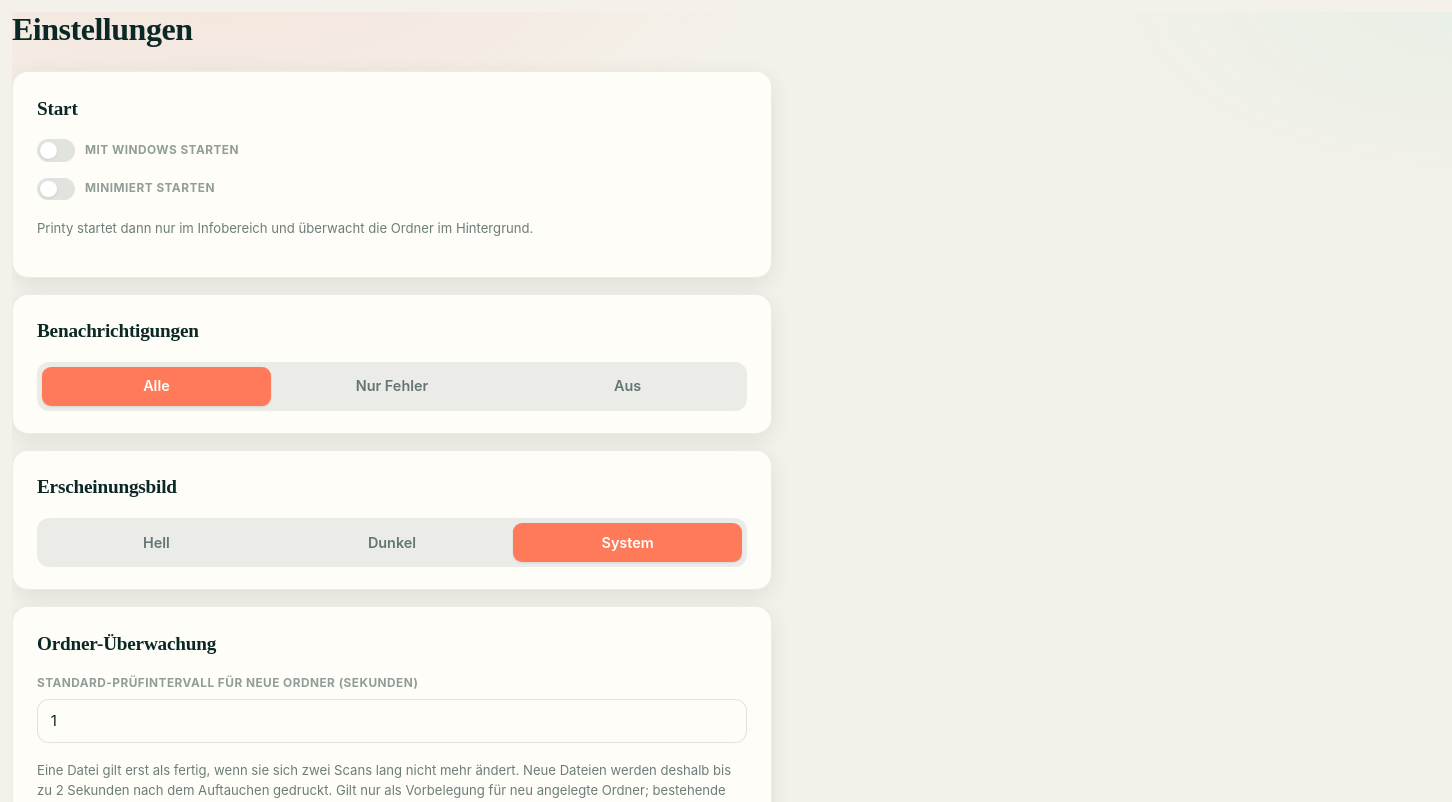
Test: Settings › falls back to off and says so when permission is refused
Click the button "Alle": x=156, y=386 [42,367,271,406]
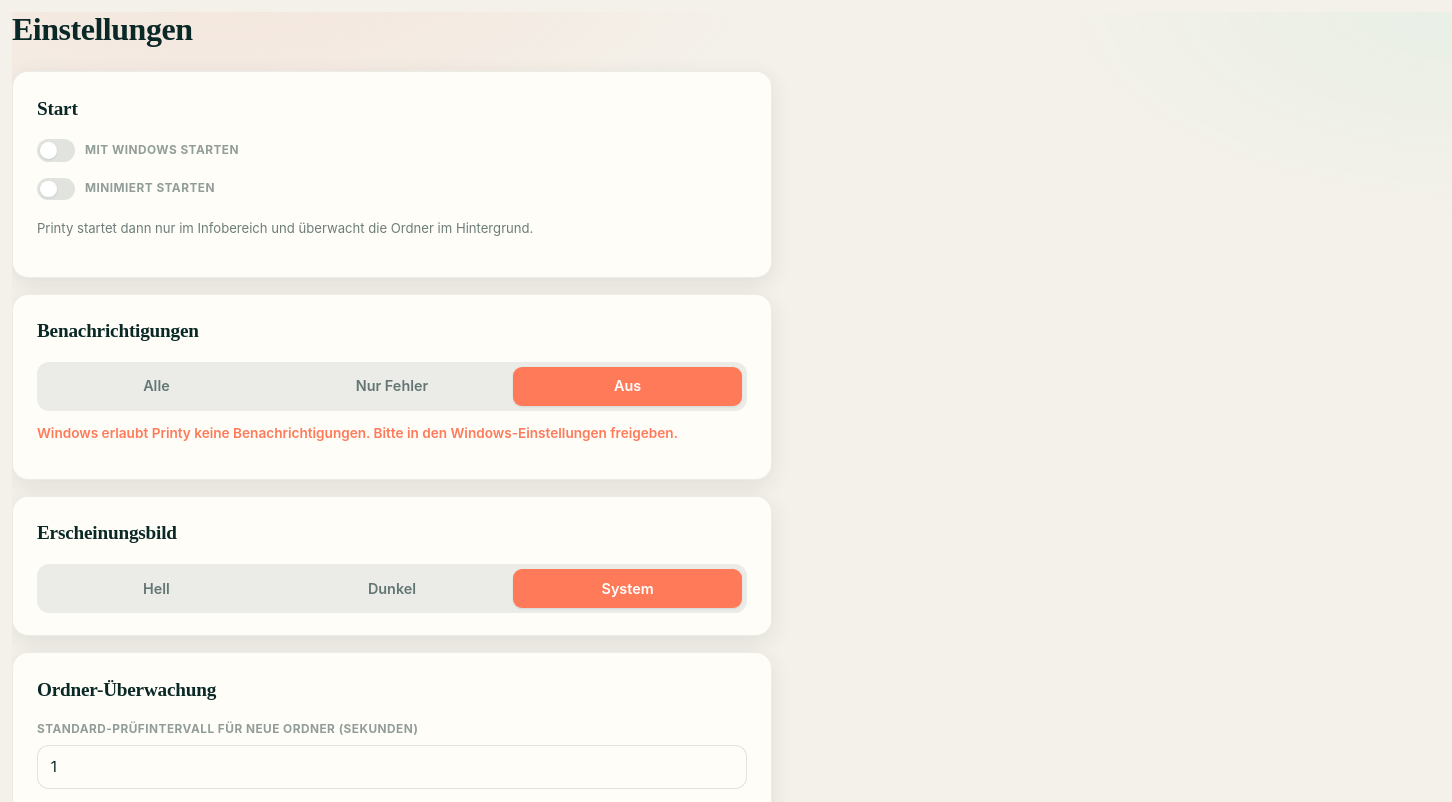
Check: the text "Windows erlaubt Printy keine Benachrichtigungen. Bitte in den Windows-Einstellungen freigeben." is shown, box [37,425,678,441]
